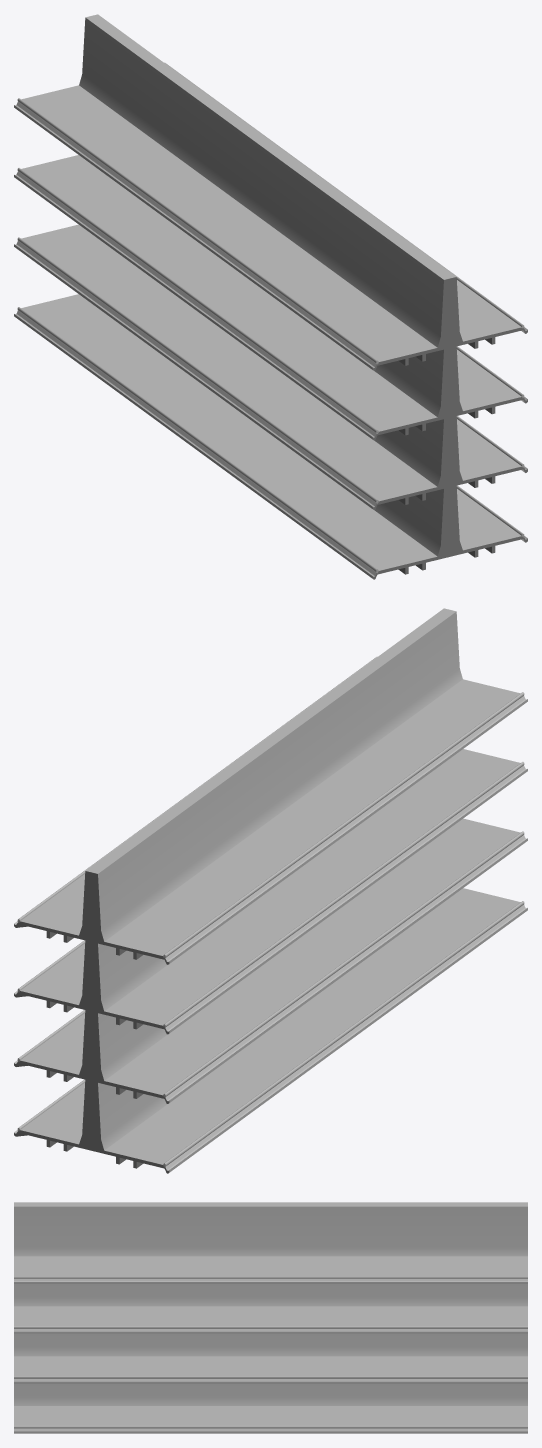
File: MiniShelf.fbx
3 renders of one model, top to bottom at view 1: azimuth 30°, elevation 25°; view 2: azimuth 150°, elevation 25°; view 3: azimuth 270°, elevation 25°, orthographic. The views are drawn at different scales.
Parts seen in each view (by area): view 1: Shelf1; view 2: Shelf1; view 3: Shelf1.
Part boxes in pixels (x1=…): Shelf1: x1=14, y1=14, x2=527, y2=579; Shelf1: x1=14, y1=608, x2=527, y2=1173; Shelf1: x1=14, y1=1202, x2=527, y2=1433.
Bounding box in the file's own units: 65.84 × 116 × 263.
